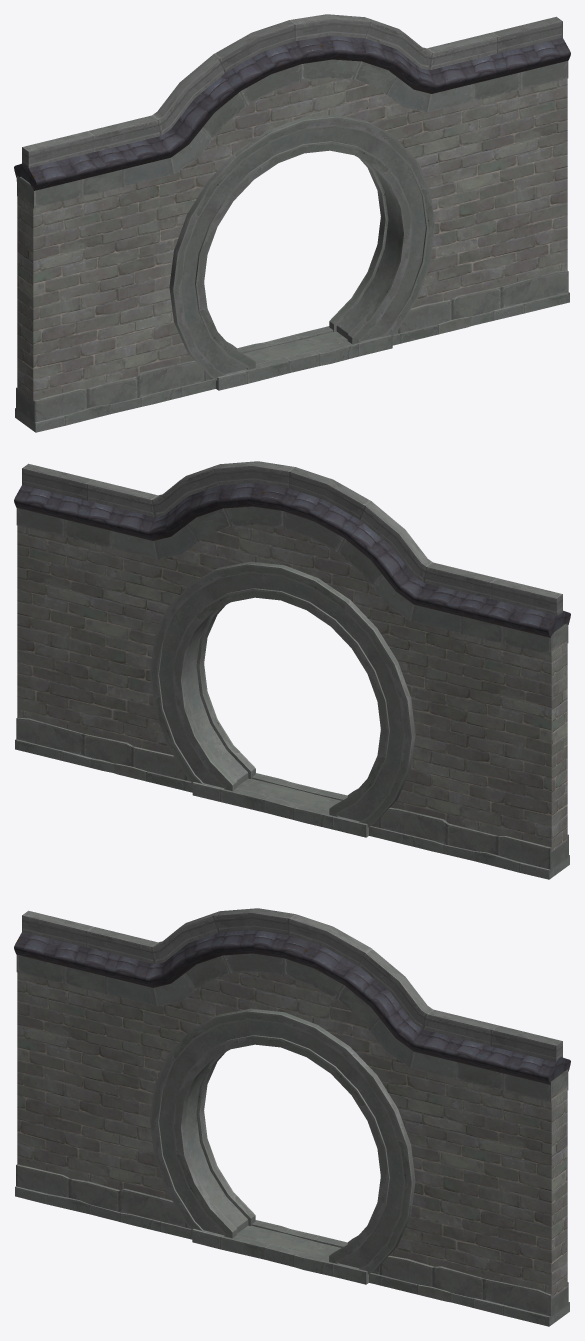
File: Homeworld_Exterior_Cyg_Build_YlbMendong_02_Lod0.fbx
3 views of the same model, one above another, from view 1: azimuth 30°, elevation 25°; view 2: azimuth 150°, elevation 25°; view 3: azimuth 330°, elevation 25° (orthographic).
Visible parts, largest first — view 1: Area_Cyg_Build_YLB_Comp_Door_01_Lod0; view 2: Area_Cyg_Build_YLB_Comp_Door_01_Lod0; view 3: Area_Cyg_Build_YLB_Comp_Door_01_Lod0.
Boxes of the visible parts, bbox=[...] form: Area_Cyg_Build_YLB_Comp_Door_01_Lod0: bbox=[14, 14, 570, 432]; Area_Cyg_Build_YLB_Comp_Door_01_Lod0: bbox=[14, 461, 570, 879]; Area_Cyg_Build_YLB_Comp_Door_01_Lod0: bbox=[14, 908, 570, 1326].
Size of the model in its own units: 9.74 by 5.88 by 0.8504.
